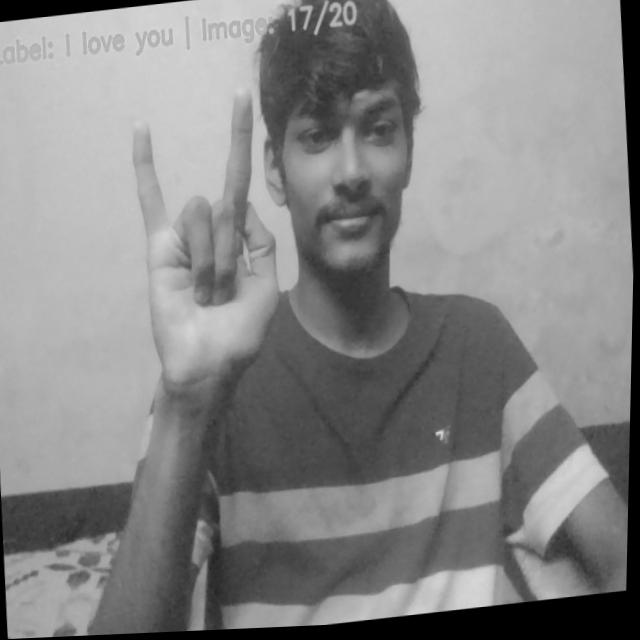I love you: (123, 85, 294, 402)
